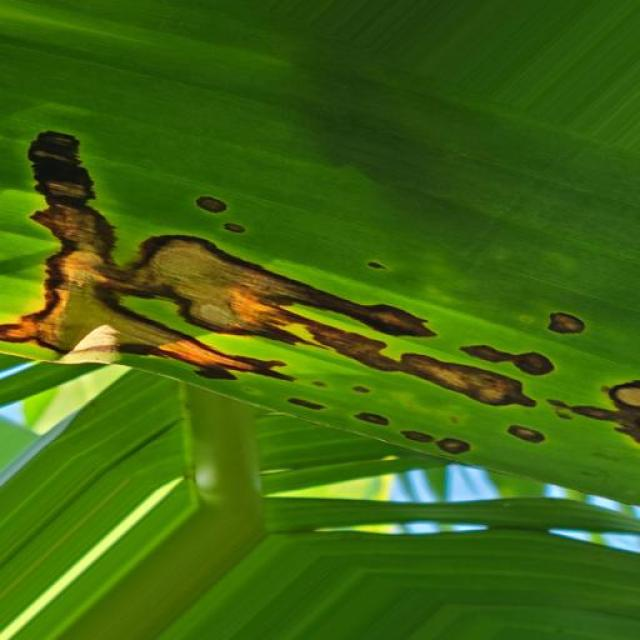Early_rust: (0, 91, 640, 530)
